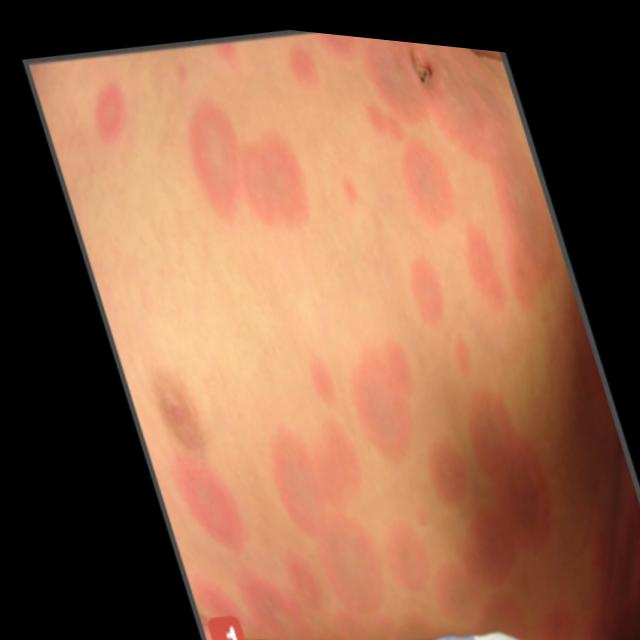Erythema multiforme -EM-: (67, 5, 591, 614)
